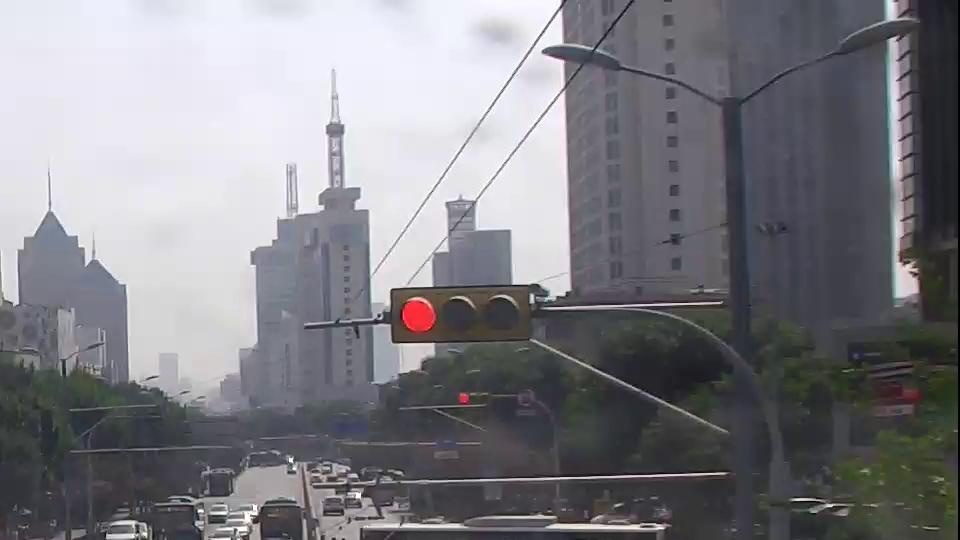red: (390, 289, 438, 344), (446, 384, 478, 415)
